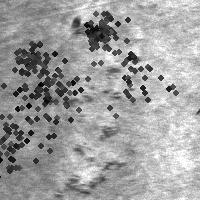rolled-in_scale: (74, 14, 188, 128), (1, 49, 95, 143), (61, 65, 124, 199), (0, 93, 54, 193), (70, 2, 128, 60), (5, 33, 57, 85), (67, 13, 114, 51)
